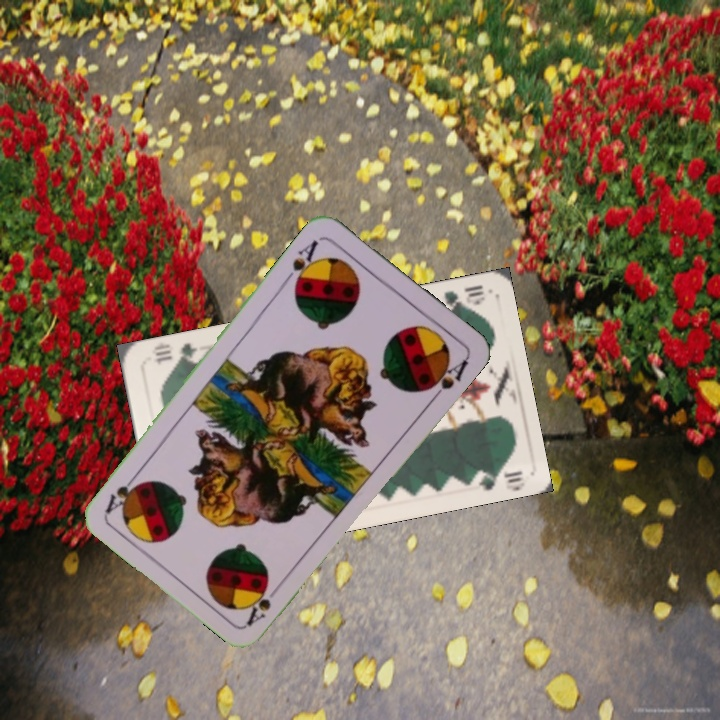G10: (440, 280, 488, 313)
SA: (280, 235, 323, 291), (243, 577, 286, 628)
